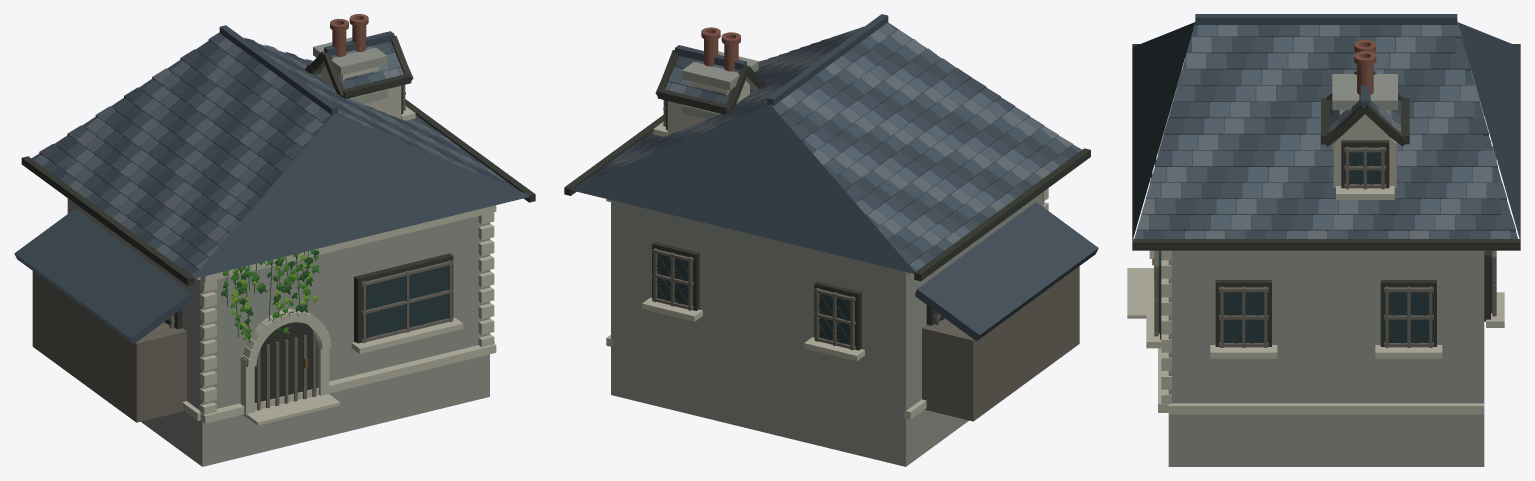
The model's file is stone_workshop.glb.
3 renders of one model, left to right at view 1: azimuth 30°, elevation 25°; view 2: azimuth 150°, elevation 25°; view 3: azimuth 270°, elevation 25°, orthographic. The views are drawn at different scales.
Visible parts, largest first — view 1: stone_workshop; view 2: stone_workshop; view 3: stone_workshop.
Boxes of the visible parts, x1=… form: stone_workshop: x1=14, y1=14, x2=535, y2=466; stone_workshop: x1=564, y1=14, x2=1098, y2=466; stone_workshop: x1=1127, y1=14, x2=1520, y2=466.
Bounding box in the file's own units: 10.58 × 8.74 × 8.1.
